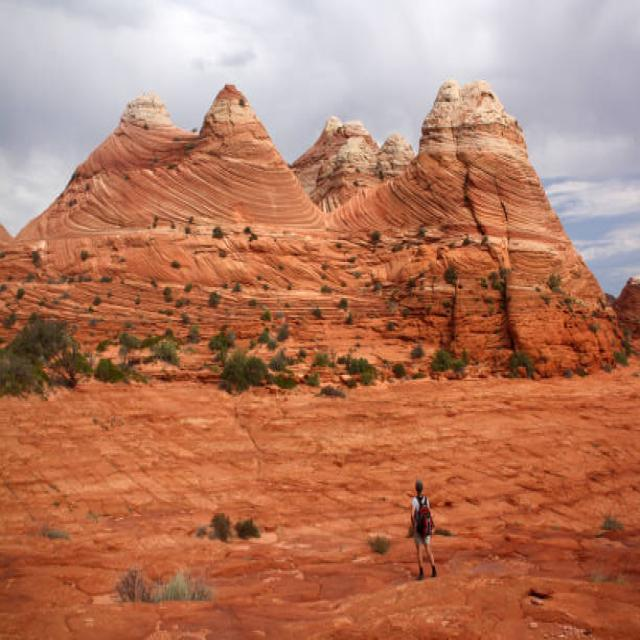Sedimentary: (18, 56, 618, 386)
